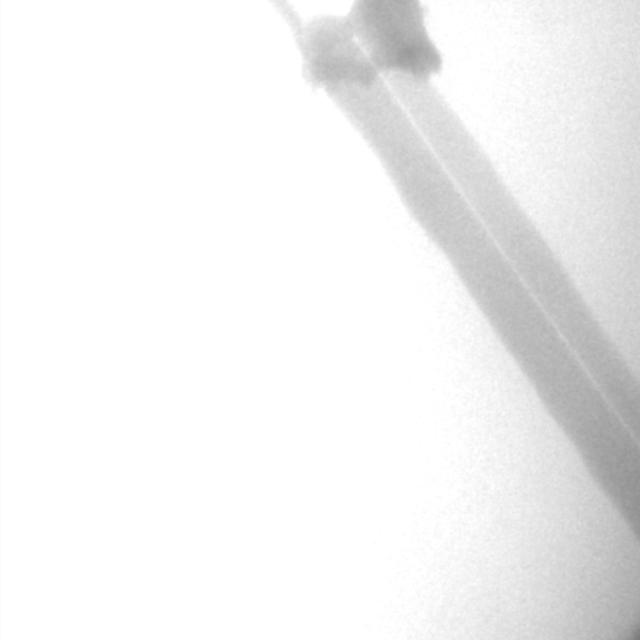broken arc: (332, 2, 636, 441)
